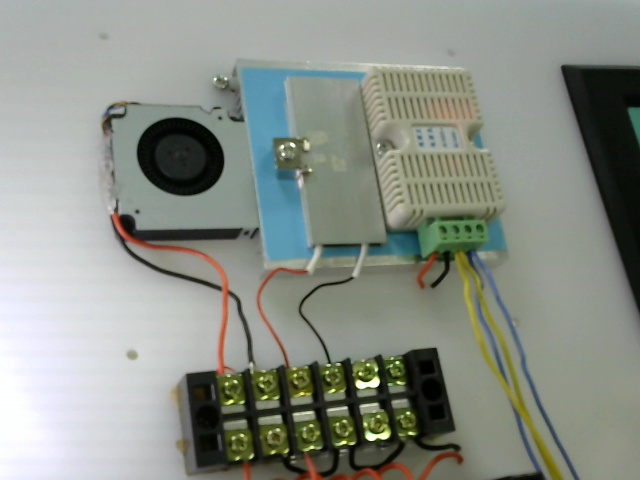fan: (102, 95, 254, 251)
heater: (282, 69, 392, 261)
termperature: (365, 72, 508, 245)
